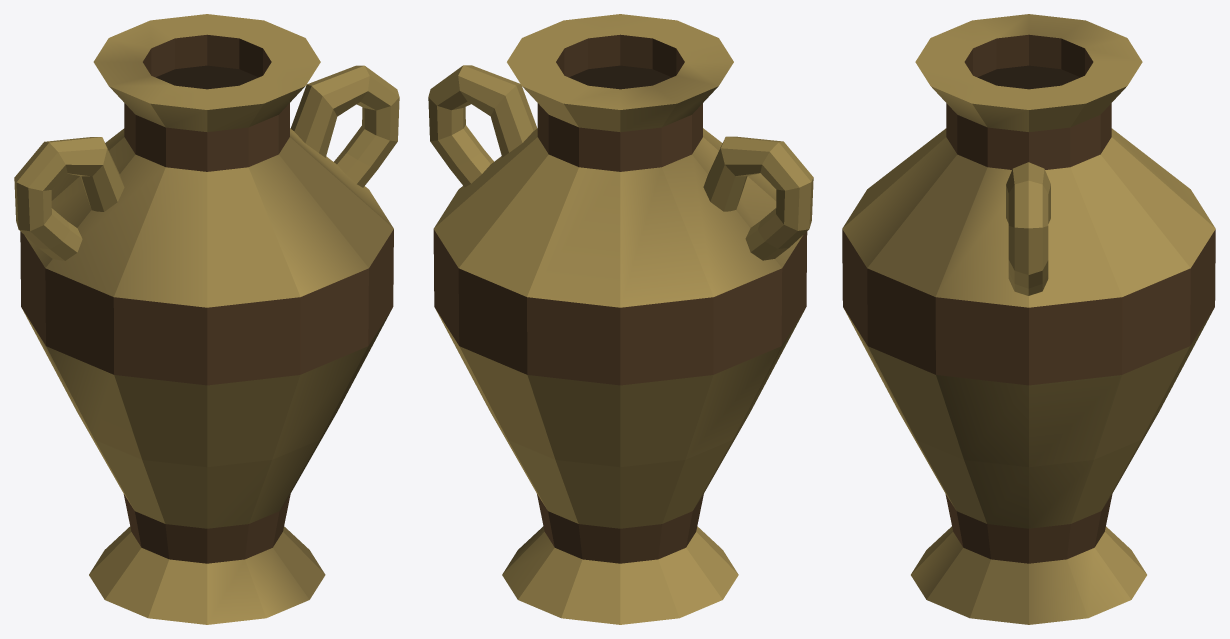
Rendered from Jar.fbx.
3 views of the same model, side by side, from view 1: azimuth 30°, elevation 25°; view 2: azimuth 150°, elevation 25°; view 3: azimuth 270°, elevation 25° (orthographic).
Visible parts, largest first — view 1: Jar; view 2: Jar; view 3: Jar.
Boxes of the visible parts, x1,y1,x2,y2 form: Jar: [14, 14, 399, 624]; Jar: [428, 14, 813, 624]; Jar: [842, 14, 1215, 624].
Bounding box in the file's own units: 0.6217 × 0.8 × 0.5282.
